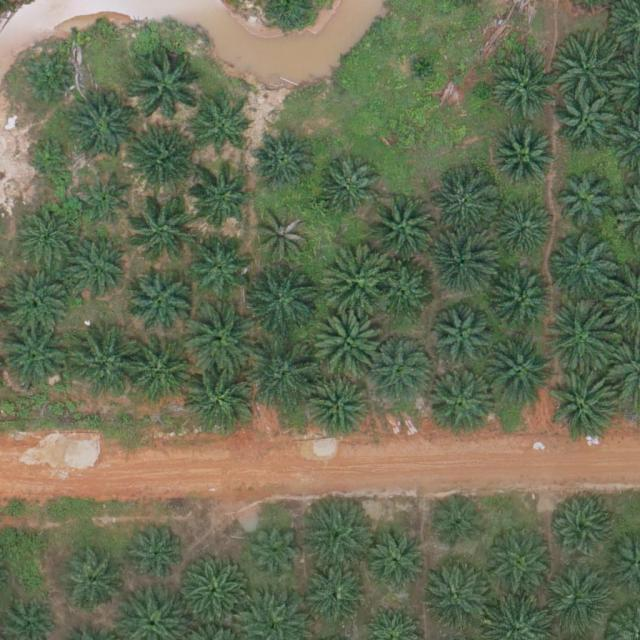Dead: (257, 211, 312, 266)
Healthy: (417, 562, 488, 633), (483, 528, 553, 599), (303, 496, 373, 567), (544, 304, 614, 375), (548, 231, 618, 302), (555, 29, 625, 100), (429, 367, 499, 438), (483, 337, 553, 408), (321, 245, 391, 316), (251, 341, 321, 412), (249, 265, 319, 336), (185, 304, 255, 375), (185, 367, 256, 437), (131, 193, 201, 264), (131, 48, 202, 118), (67, 328, 137, 399), (177, 558, 247, 628), (551, 373, 621, 443), (428, 229, 498, 299), (369, 194, 439, 264), (312, 307, 382, 377), (123, 340, 193, 410), (125, 128, 195, 198), (65, 94, 135, 164), (125, 523, 188, 586), (304, 566, 367, 629), (555, 172, 618, 235), (127, 271, 190, 334), (62, 554, 125, 616), (550, 497, 613, 559), (366, 525, 428, 588), (556, 91, 618, 154), (494, 60, 557, 122), (495, 200, 557, 263), (492, 273, 555, 335), (434, 175, 496, 238), (432, 310, 494, 373), (370, 338, 432, 401), (316, 157, 378, 220), (189, 169, 251, 232), (189, 234, 251, 297), (17, 207, 79, 270), (65, 240, 127, 303), (544, 570, 606, 632), (495, 128, 557, 190), (307, 377, 369, 439), (252, 129, 314, 191), (431, 494, 486, 549), (376, 265, 431, 320), (79, 174, 134, 229), (20, 54, 75, 109), (251, 524, 305, 579), (196, 104, 250, 159)
Small: (27, 136, 74, 183), (406, 52, 437, 84)
